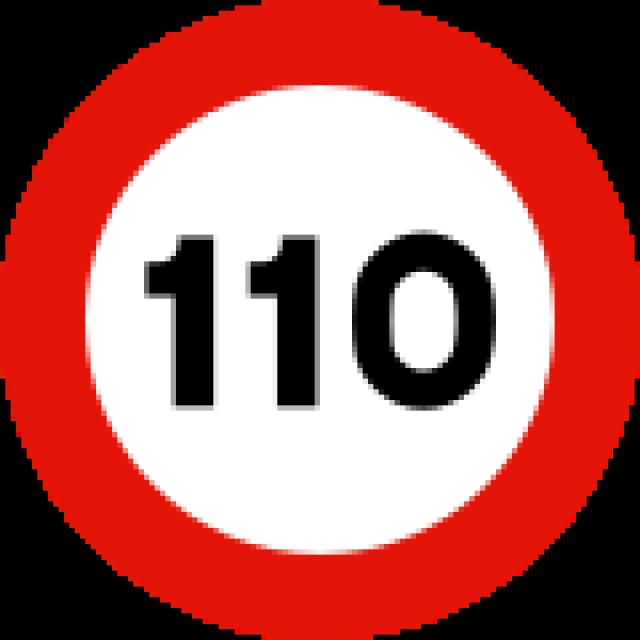Speed Limit -110-: (129, 202, 516, 440)
